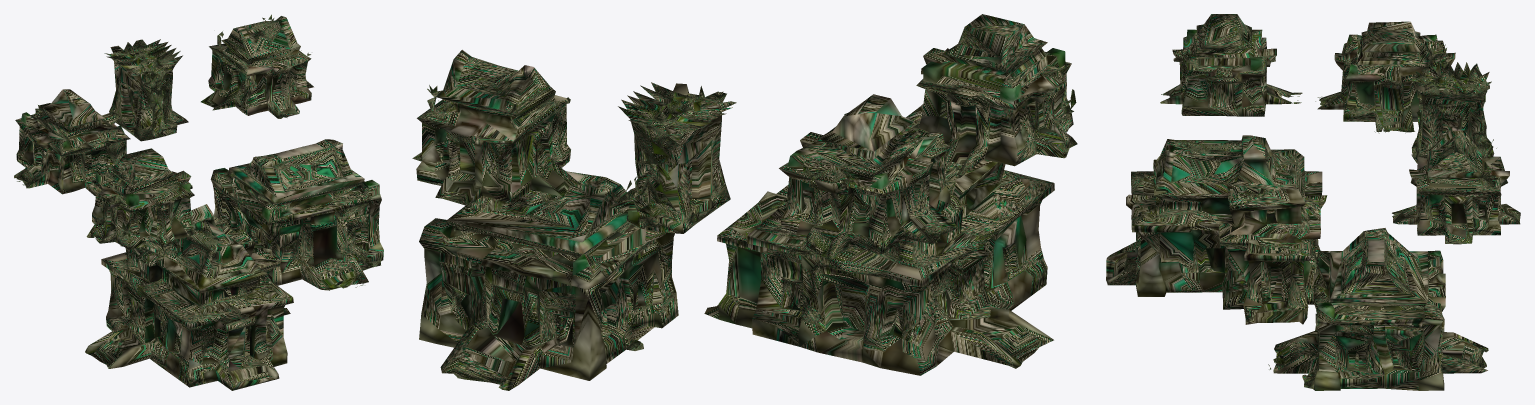
The model's file is Ancient_Stone_Temples.glb.
3 renders of one model, left to right at view 1: azimuth 30°, elevation 25°; view 2: azimuth 150°, elevation 25°; view 3: azimuth 270°, elevation 25°, orthographic. The views are drawn at different scales.
Parts seen in each view (by area): view 1: Ancient_Stone_Temples; view 2: Ancient_Stone_Temples; view 3: Ancient_Stone_Temples.
Boxes of the visible parts, x1,y1,x2,y2 form: Ancient_Stone_Temples: [14, 14, 383, 390]; Ancient_Stone_Temples: [412, 14, 1077, 390]; Ancient_Stone_Temples: [1106, 14, 1520, 390].
Bounding box in the file's own units: 1.9 × 1.12 × 1.88.
1 material, 1 textured.
